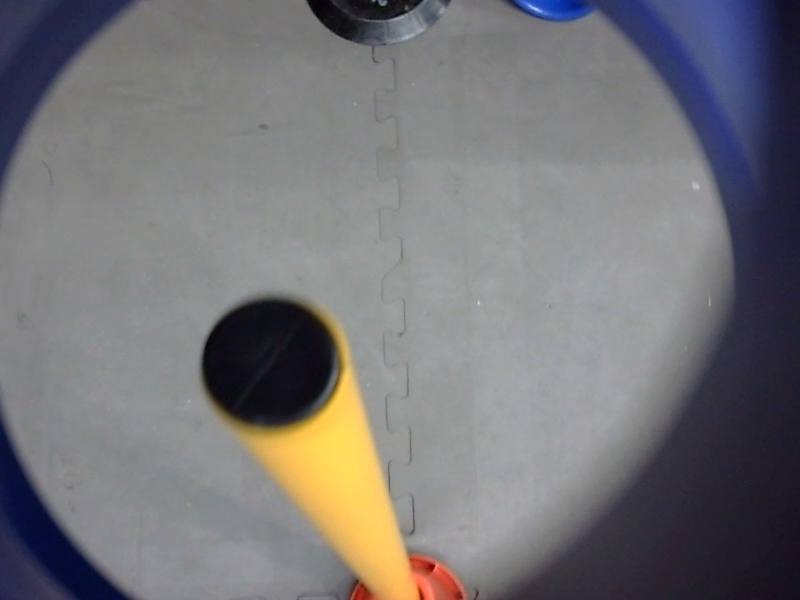tip: (187, 281, 359, 448)
